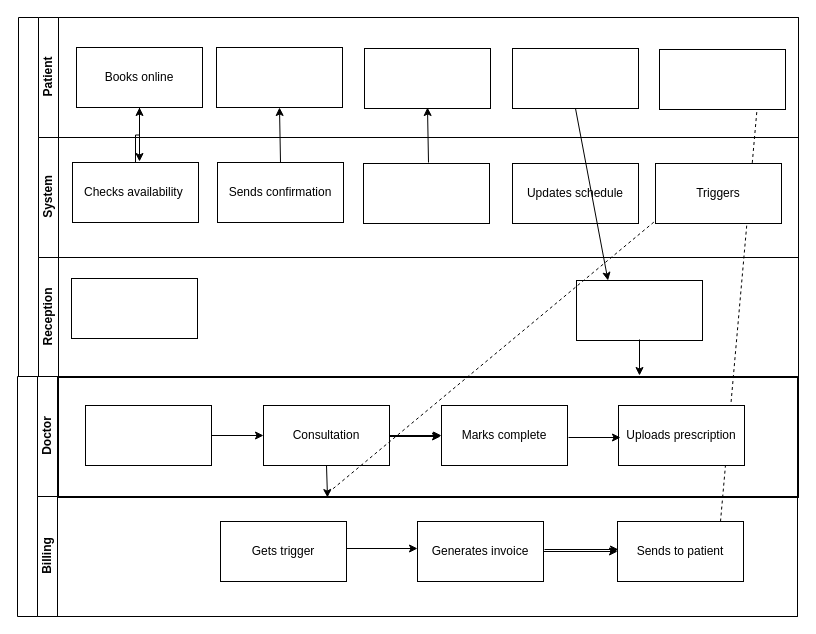
Some shapes in this 816 by 634 pixel diagram are drawn without their labels. Each missing label, with the centre of its shape:
Checks in: [575,78]
Checks patient in: [639,310]
Gets confirmation: [279,77]
Gets reminder: [427,78]
Invoice: [722,79]
Sends reminders: [426,193]
Views digital schedule: [148,435]
Walk-in booking: [134,308]
